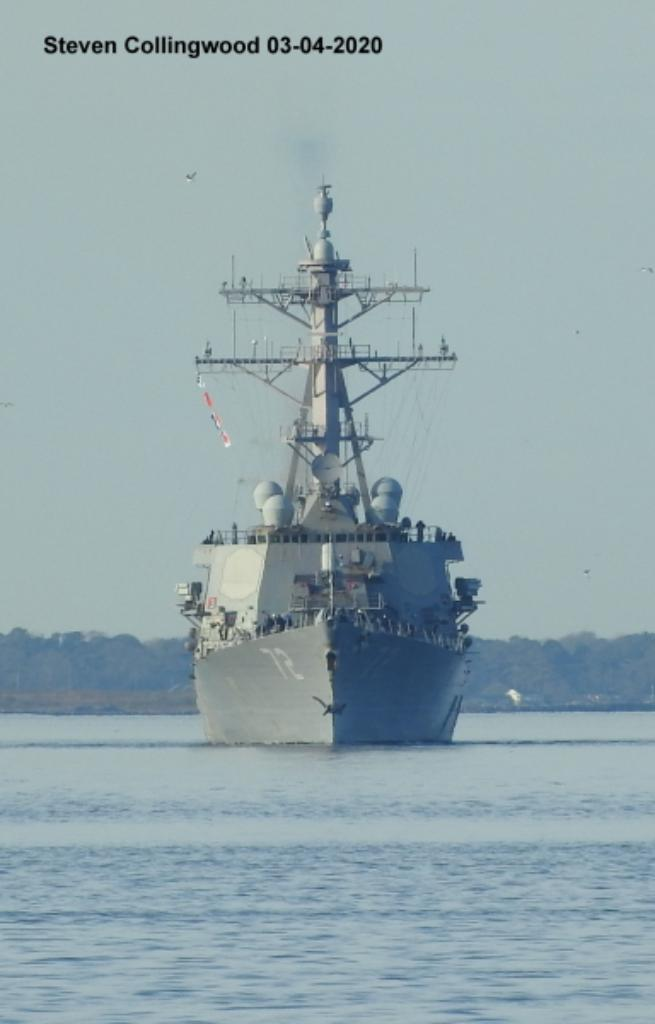Warship: (176, 178, 492, 750)
